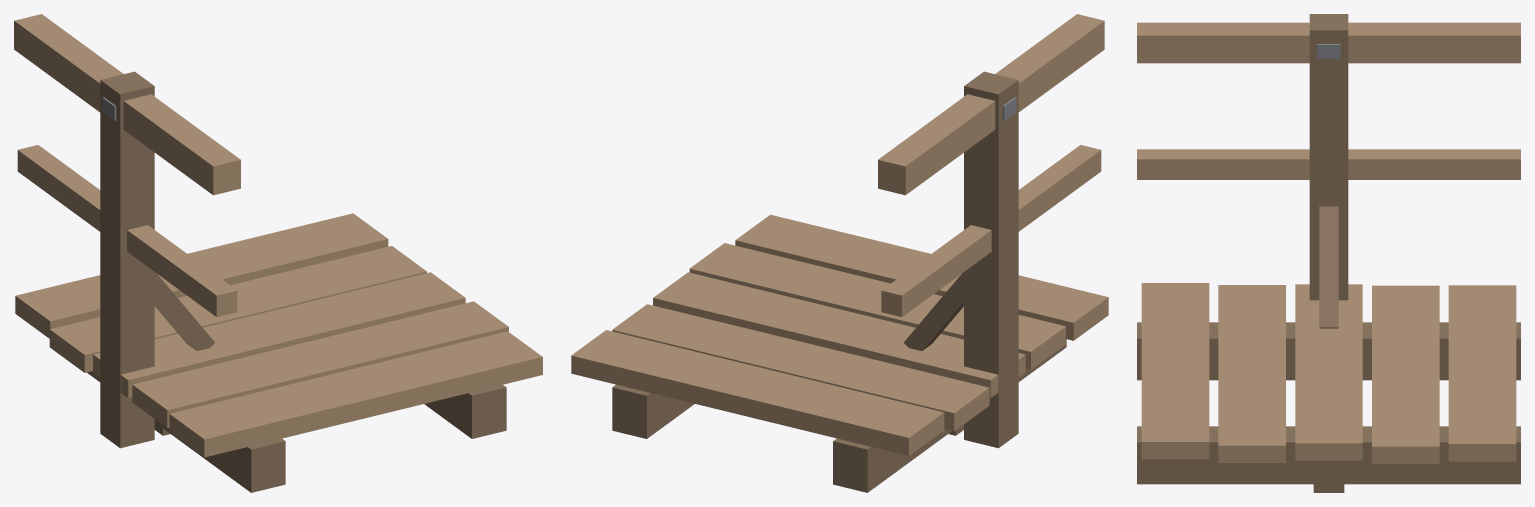
The model's file is bridge-wood-side.glb.
The picture shows the model from 3 angles, left to right: view 1: azimuth 30°, elevation 25°; view 2: azimuth 150°, elevation 25°; view 3: azimuth 270°, elevation 25°; orthographic projection. The views are drawn at different scales.
Visible parts, largest first — view 1: bridge-wood-side; view 2: bridge-wood-side; view 3: bridge-wood-side.
Part boxes in pixels (x1,y1,x2,y2): bridge-wood-side: (14,14,542,492); bridge-wood-side: (571,14,1108,492); bridge-wood-side: (1137,14,1520,492).
Bounding box in the file's own units: 0.999 × 0.98 × 1.
